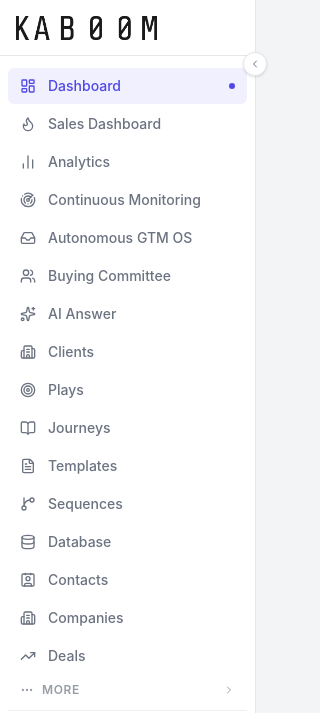
it: keeps Contest Entries restricted to admins
The width and height of the screenshot is (320, 713).
Click the button "More": (128, 690) top-left (8, 676), bottom-right (247, 704)
(page scrolled)
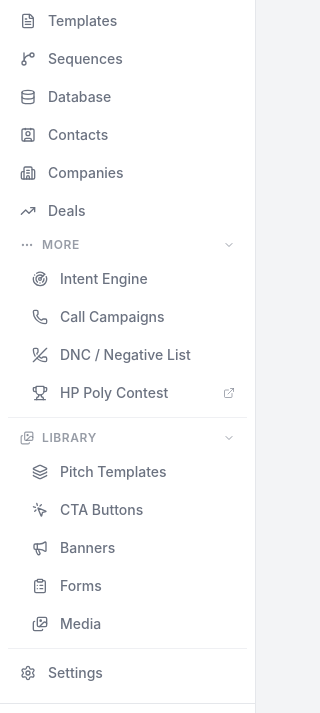
Expected: the link "HP Poly Contest" is shown, top-left (32, 384), bottom-right (235, 401)
